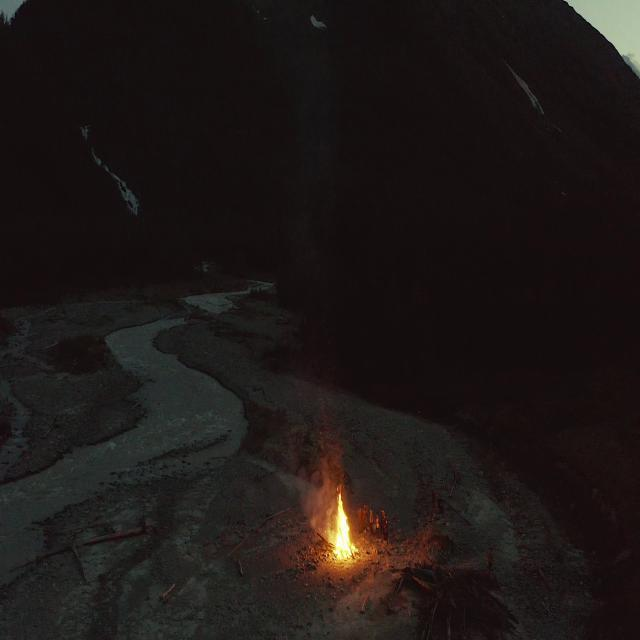Fire: (326, 484, 356, 564)
